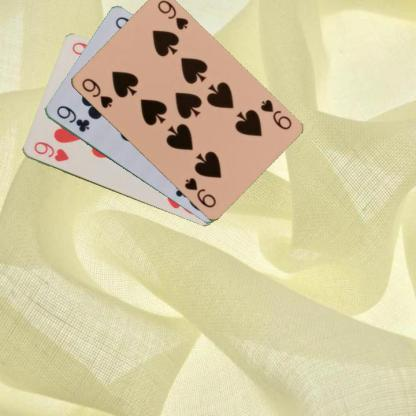9c: (53, 103, 91, 133)
9h: (31, 139, 70, 163)
9s: (78, 75, 114, 110), (257, 97, 293, 131)
